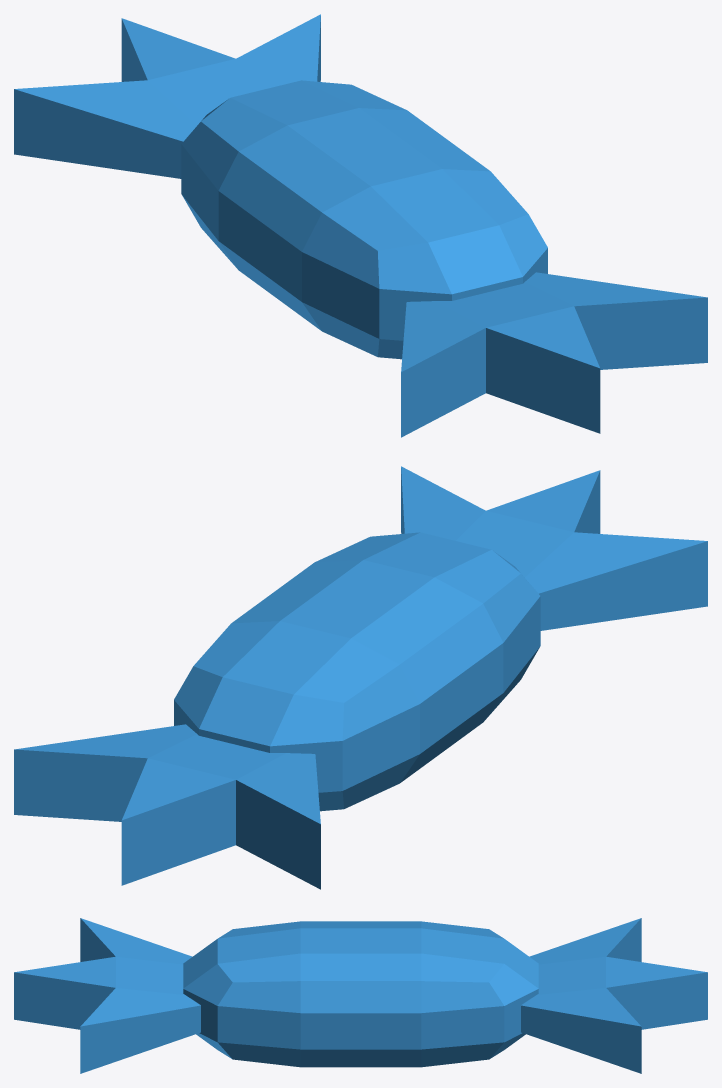
File: candy.fbx
3 views of the same model, one above another, from view 1: azimuth 30°, elevation 25°; view 2: azimuth 150°, elevation 25°; view 3: azimuth 270°, elevation 25° (orthographic). The views are drawn at different scales.
Parts seen in each view (by area): view 1: Cube, Curve.001; view 2: Cube, Curve.001; view 3: Cube, Curve.001.
Part boxes in pixels (bbox=[...]): Cube: bbox=[181, 80, 547, 359]; Curve.001: bbox=[14, 14, 707, 437]; Cube: bbox=[174, 532, 540, 811]; Curve.001: bbox=[14, 466, 707, 889]; Cube: bbox=[183, 921, 538, 1067]; Curve.001: bbox=[14, 918, 707, 1073].
Size of the model in its own units: 293 by 135 by 793.
